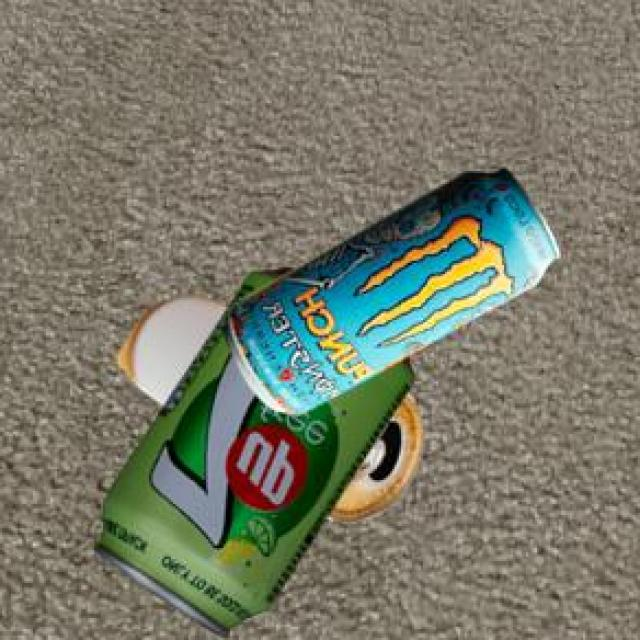logam: (98, 264, 418, 635), (227, 165, 562, 411), (122, 293, 426, 518)
